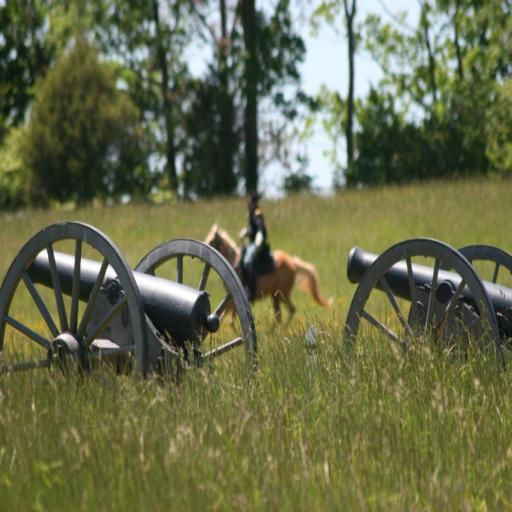horse: (200, 224, 334, 326)
